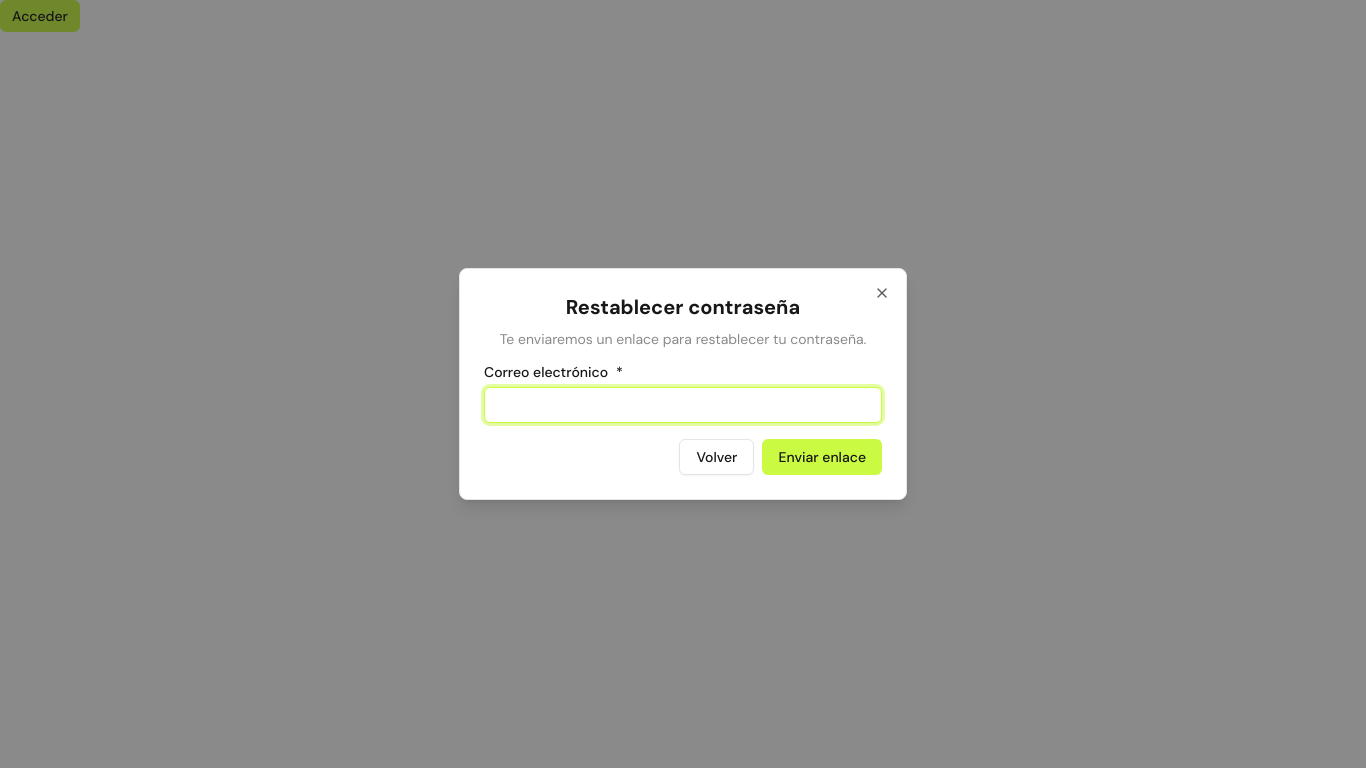
Test: recuperación de contraseña › envía un correo válido y muestra la confirmación
Type "  ana@example.com  " into the field labelled "Correo electrónico *" at (683, 405), box 484,387 -> 882,423
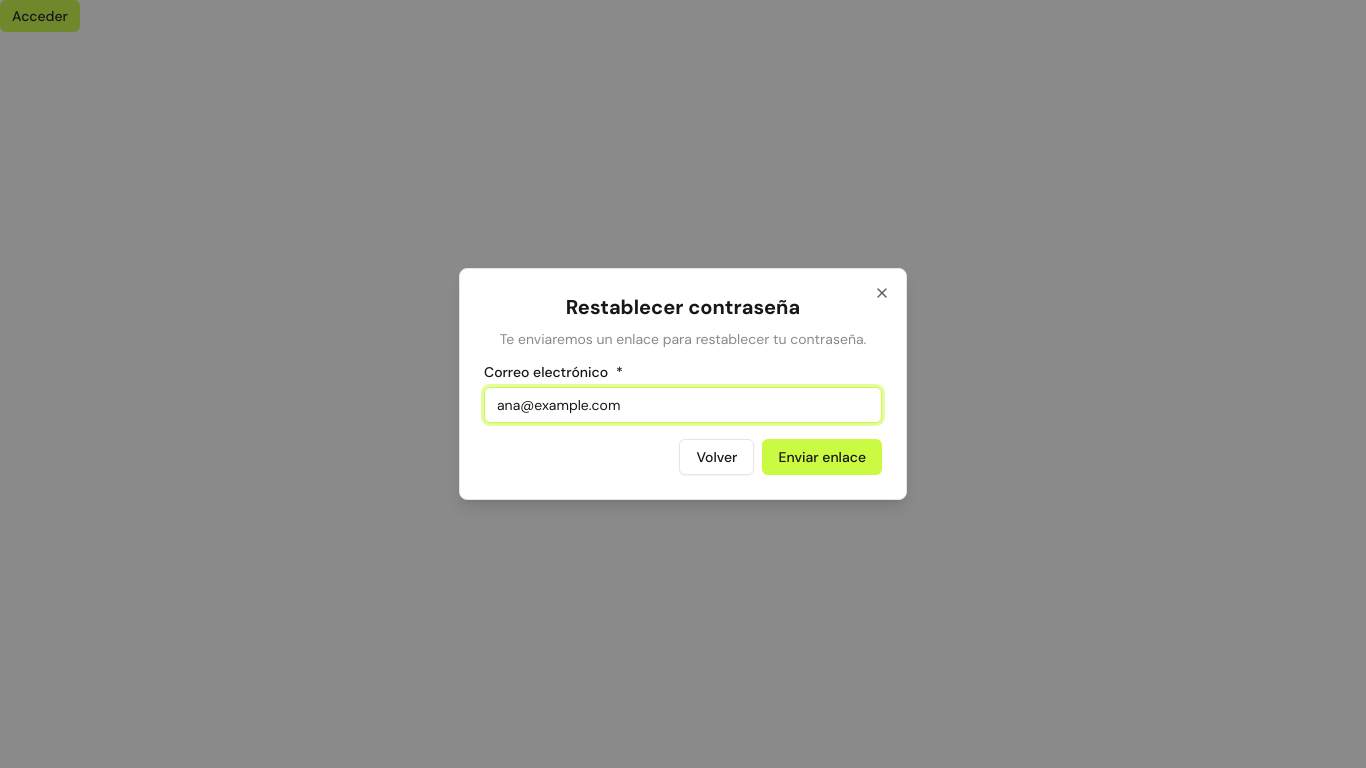
Click the button "Enviar enlace" at (822, 457), box 762,439 -> 882,475
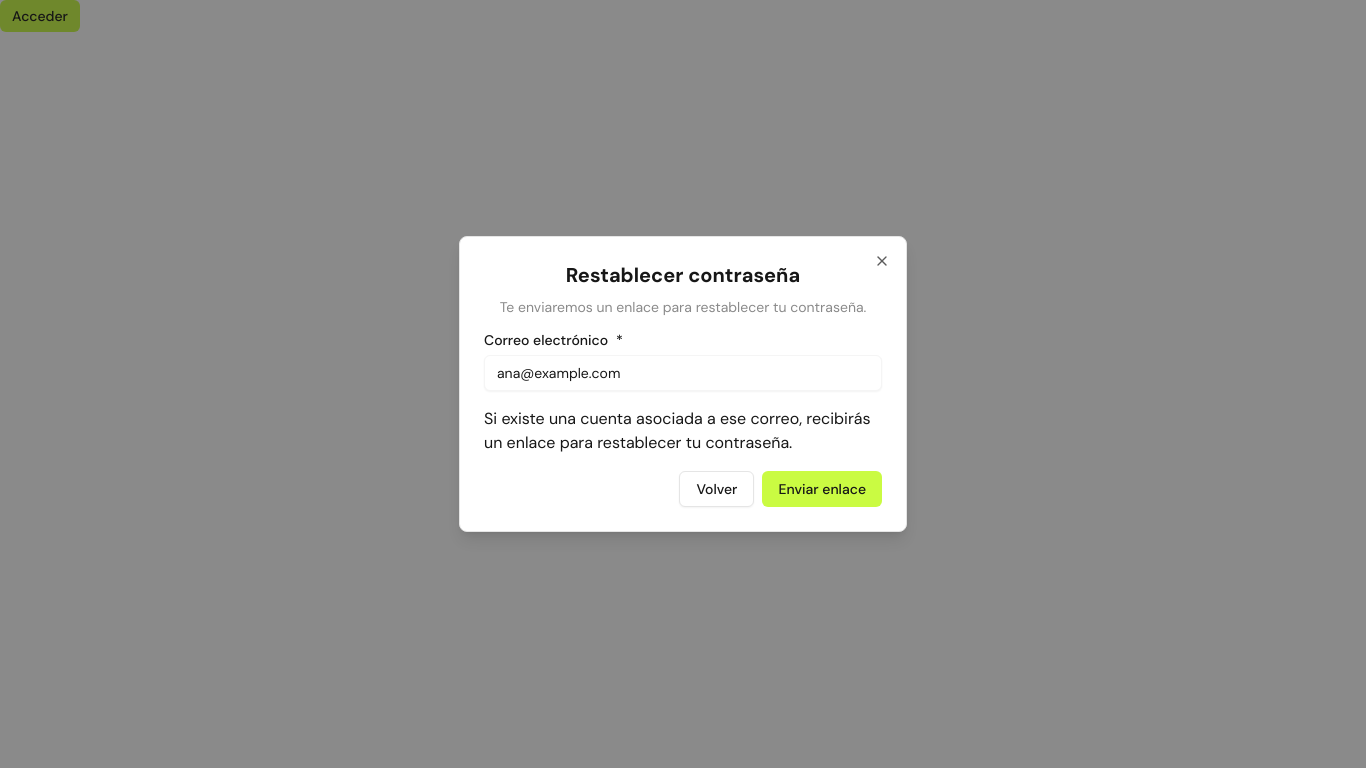
Check: the message shows "Si existe una cuenta asociada a ese correo, recibirás un enlace para restablecer tu contraseña.", box 484,408 -> 870,453
